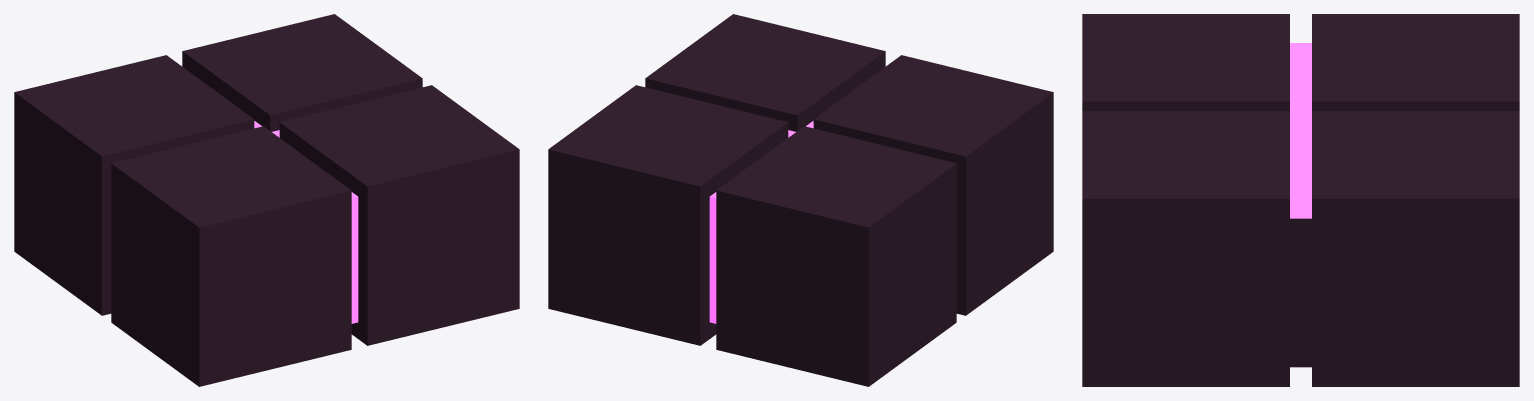
The model's file is Semi-block_5_corner.fbx.
3 views of the same model, side by side, from view 1: azimuth 30°, elevation 25°; view 2: azimuth 150°, elevation 25°; view 3: azimuth 270°, elevation 25° (orthographic). The views are drawn at different scales.
Visible parts, largest first — view 1: Semi-block_4_ring.001; view 2: Semi-block_4_ring.001; view 3: Semi-block_4_ring.001.
Boxes of the visible parts, x1,y1,x2,y2 form: Semi-block_4_ring.001: (14, 14, 519, 386); Semi-block_4_ring.001: (548, 14, 1053, 386); Semi-block_4_ring.001: (1082, 14, 1519, 386).
Size of the model in its own units: 1 by 0.475 by 1.
